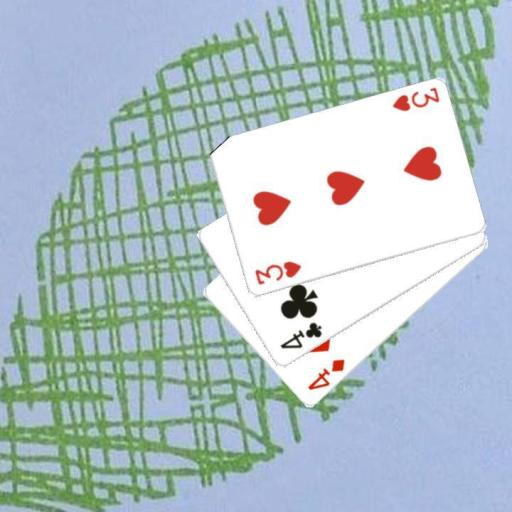3H: (251, 258, 303, 287), (389, 84, 441, 113)
4C: (277, 320, 324, 352)
4D: (305, 356, 347, 393)
